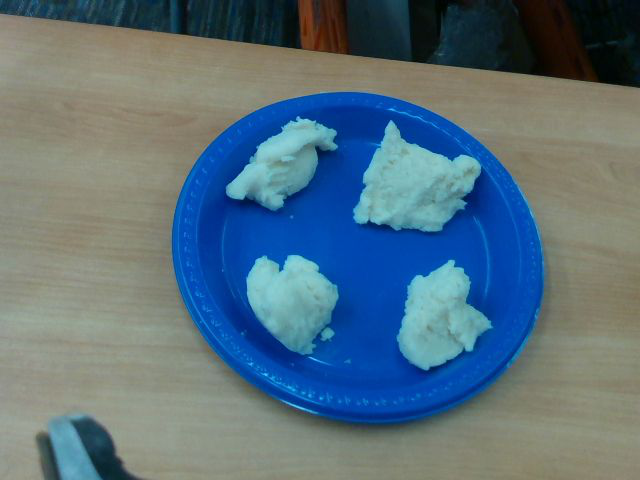mashed_potato: (353, 120, 481, 233), (225, 115, 338, 211), (396, 260, 492, 370), (246, 255, 338, 355)
